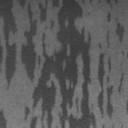red iron: (0, 0, 118, 128), (98, 53, 124, 118), (99, 30, 110, 50), (116, 22, 124, 42), (0, 110, 6, 128)
